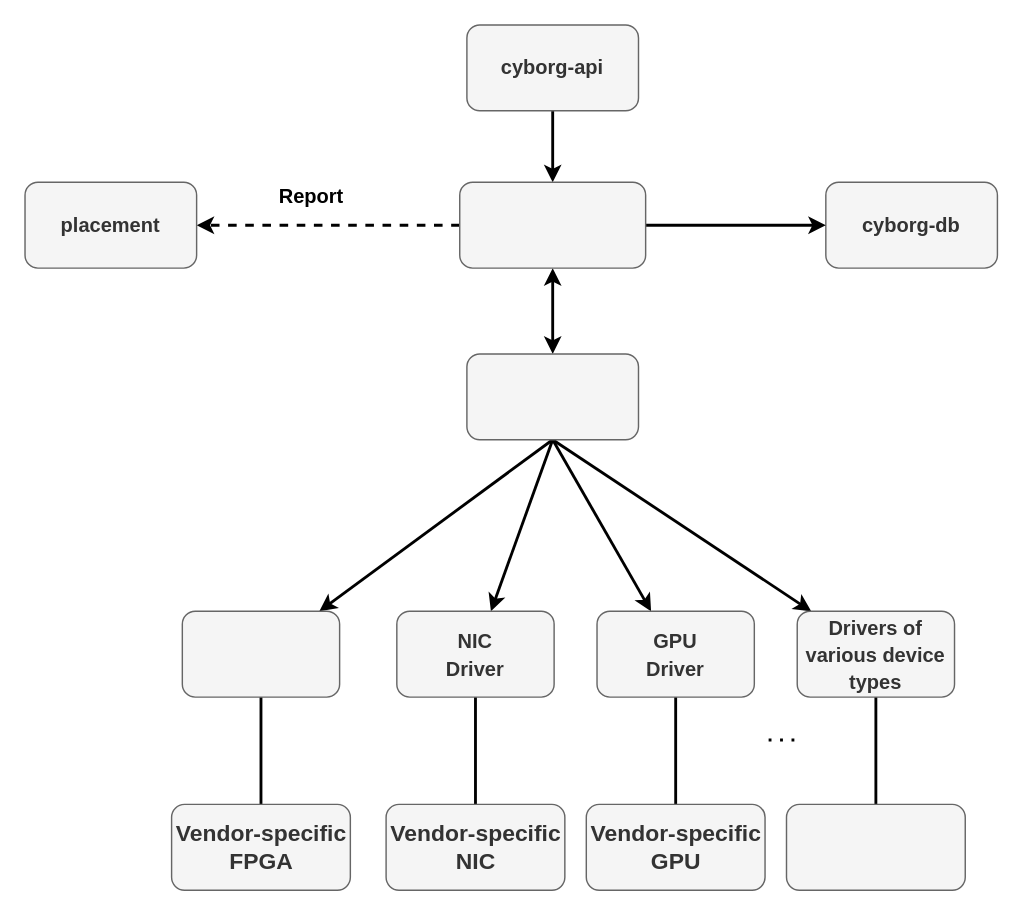
Some shapes in this 1022 by 915 pixel diagram are drawn without their labels. Each missing label, with the box of its shape:
cyborg-agent: (465, 352, 638, 440)
cyborg-conductor: (458, 181, 646, 268)
FPGA Driver: (181, 610, 340, 697)
Vendor-specific Devices: (785, 803, 965, 890)
